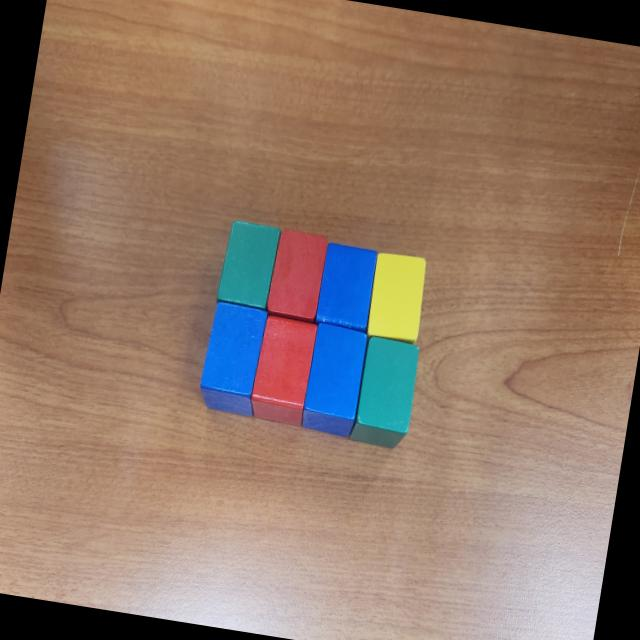blue: (196, 299, 270, 420), (298, 321, 372, 442), (314, 242, 381, 335)
green: (348, 335, 424, 451), (215, 219, 282, 311)
red: (248, 313, 318, 429), (266, 228, 330, 322)
yellow: (364, 251, 431, 344)
